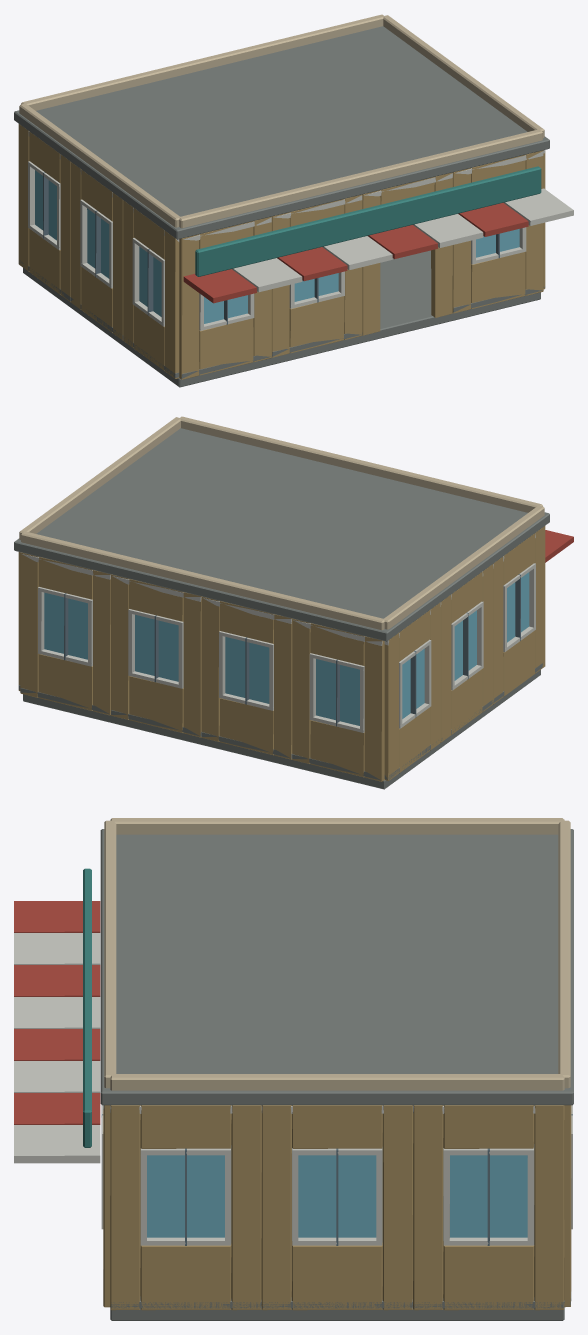
File: architecture-shop.lod1.glb
3 views of the same model, one above another, from view 1: azimuth 30°, elevation 25°; view 2: azimuth 150°, elevation 25°; view 3: azimuth 270°, elevation 25° (orthographic). The views are drawn at different scales.
Parts seen in each view (by area): view 1: architecture-shop__body; view 2: architecture-shop__body; view 3: architecture-shop__body.
Part boxes in pixels (x1,y1,x2,y2): architecture-shop__body: (14, 14, 573, 387); architecture-shop__body: (14, 416, 573, 789); architecture-shop__body: (14, 818, 573, 1320).
Bounding box in the file's own units: 8.25 × 3.58 × 7.4.
